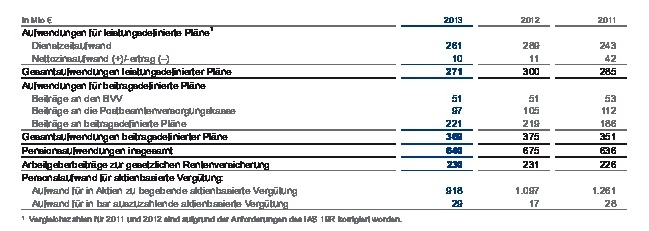table: (0, 0, 649, 231)
